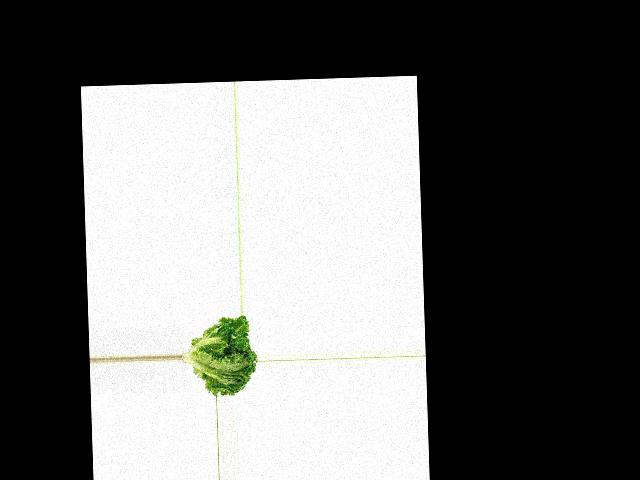lettuce: (180, 315, 257, 397)
